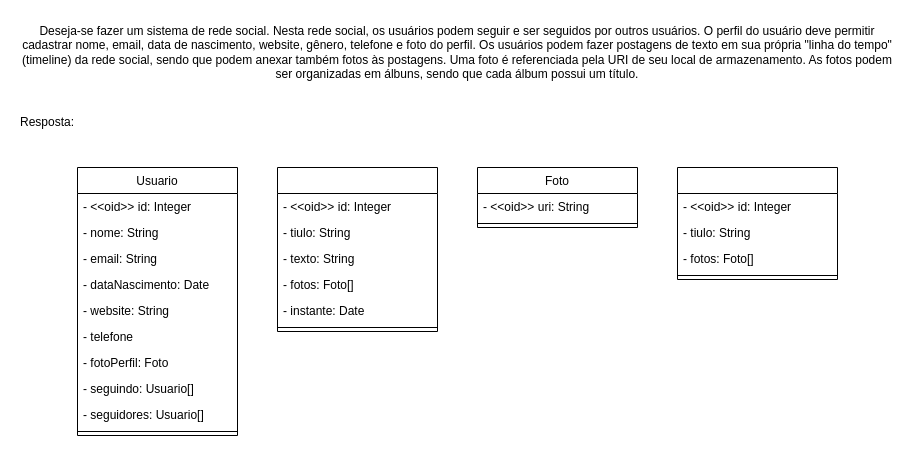
The diagram is 914 pixels wide and 453 high, and some of its shapes have lost their labels. The shapes that lost their labels are listed below. From the top down, each one's box as (x1, y1, x2, y2) in pixels, then its label:
(676, 166, 838, 280): Album
(276, 166, 438, 332): Postagem
